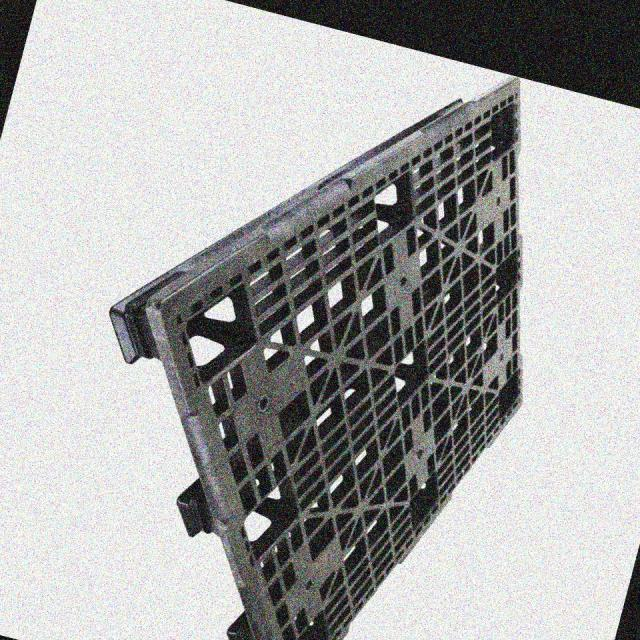non-igps: (104, 74, 529, 640)
